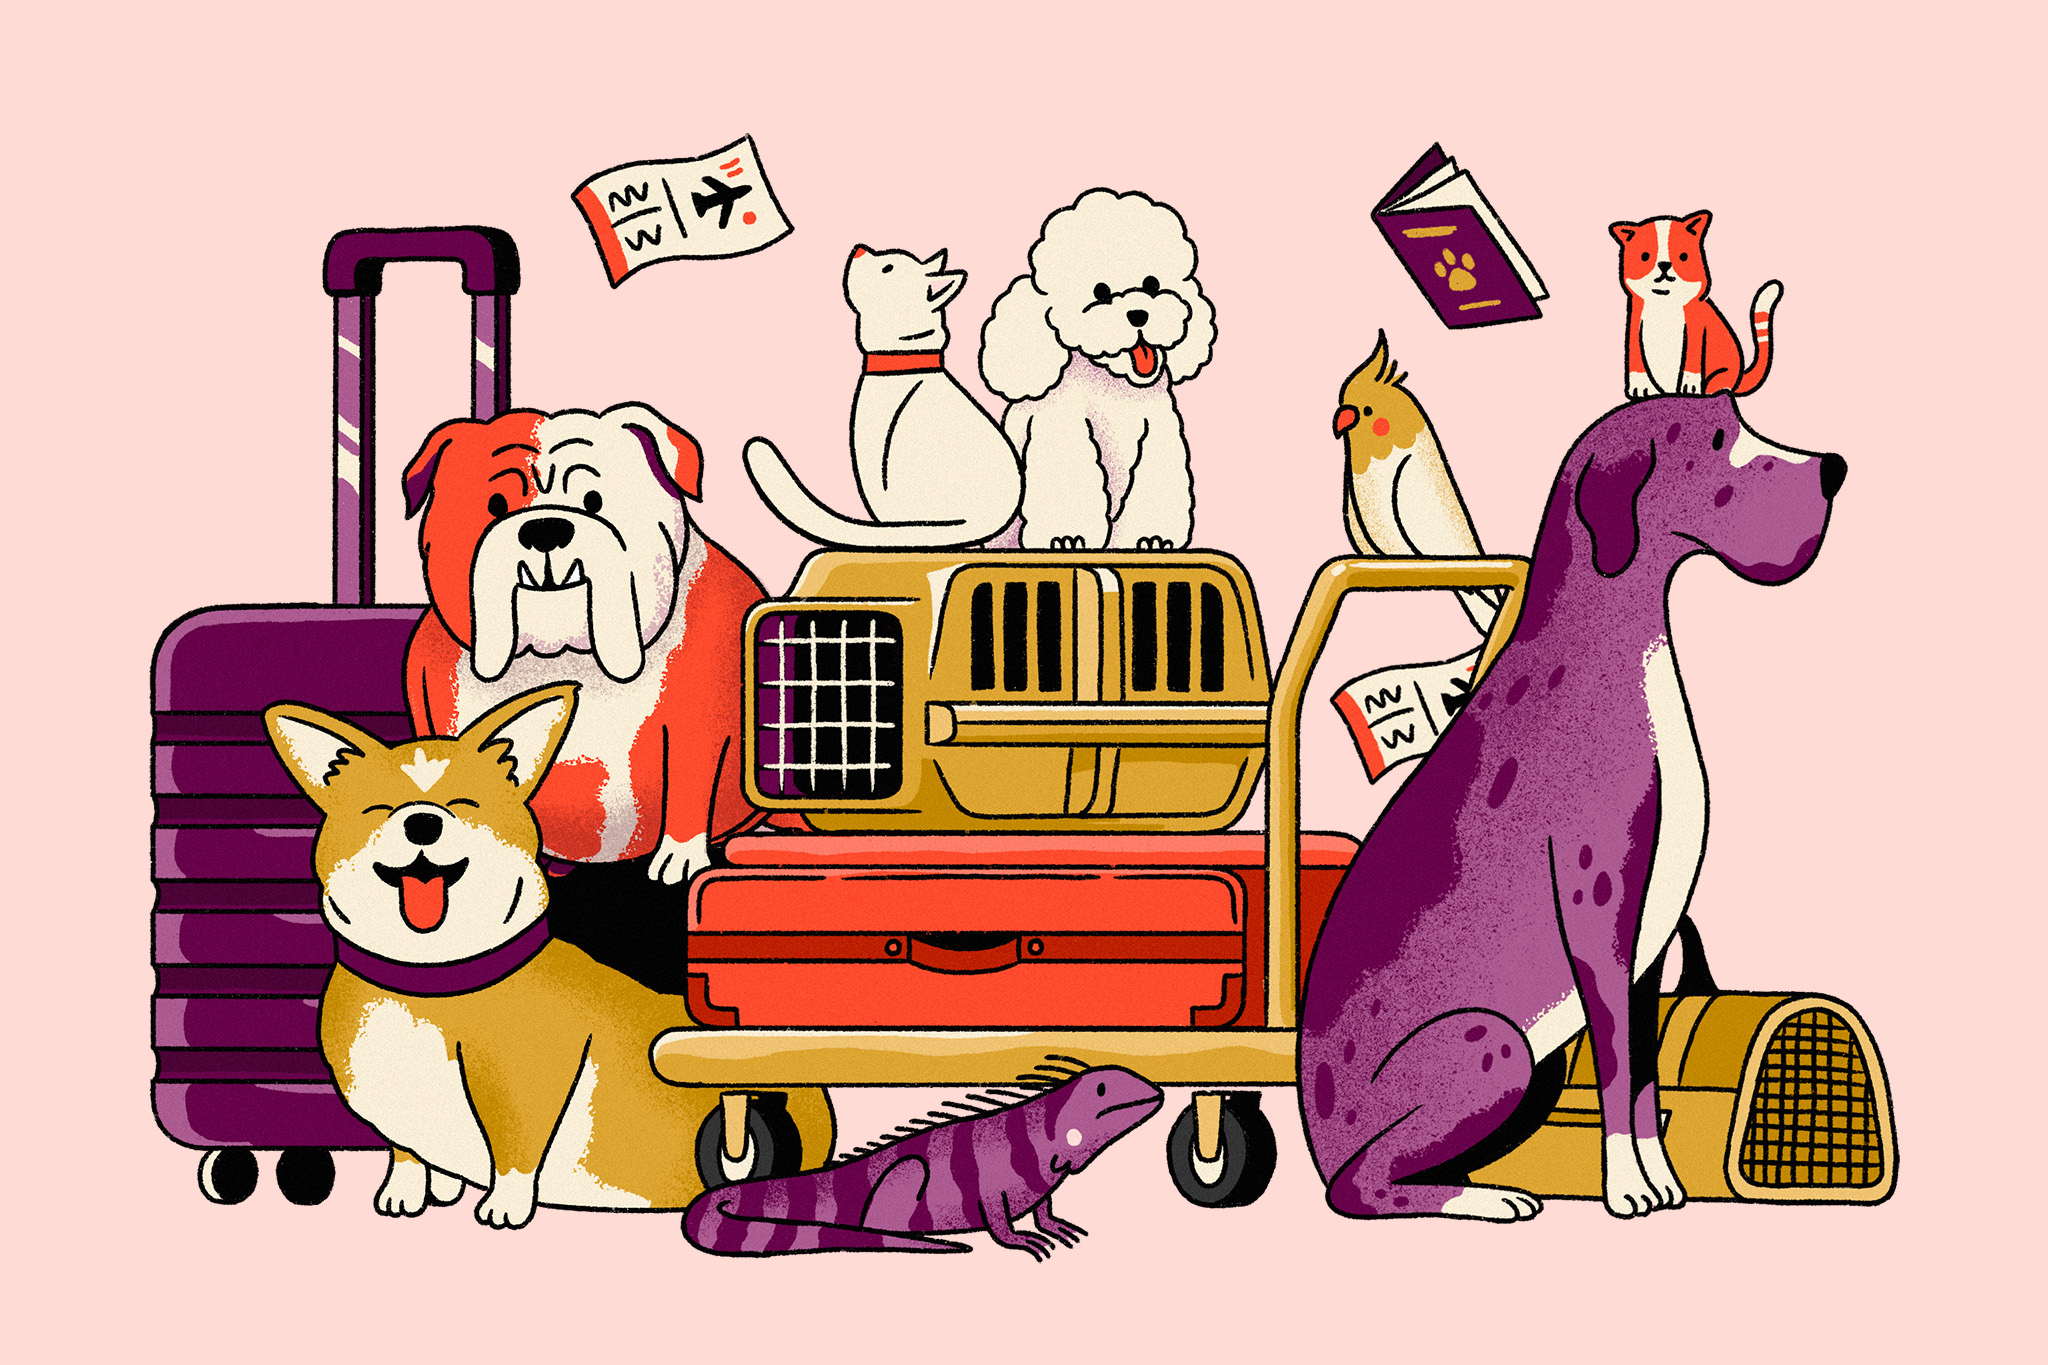pet: (1294, 411, 1877, 1226)
